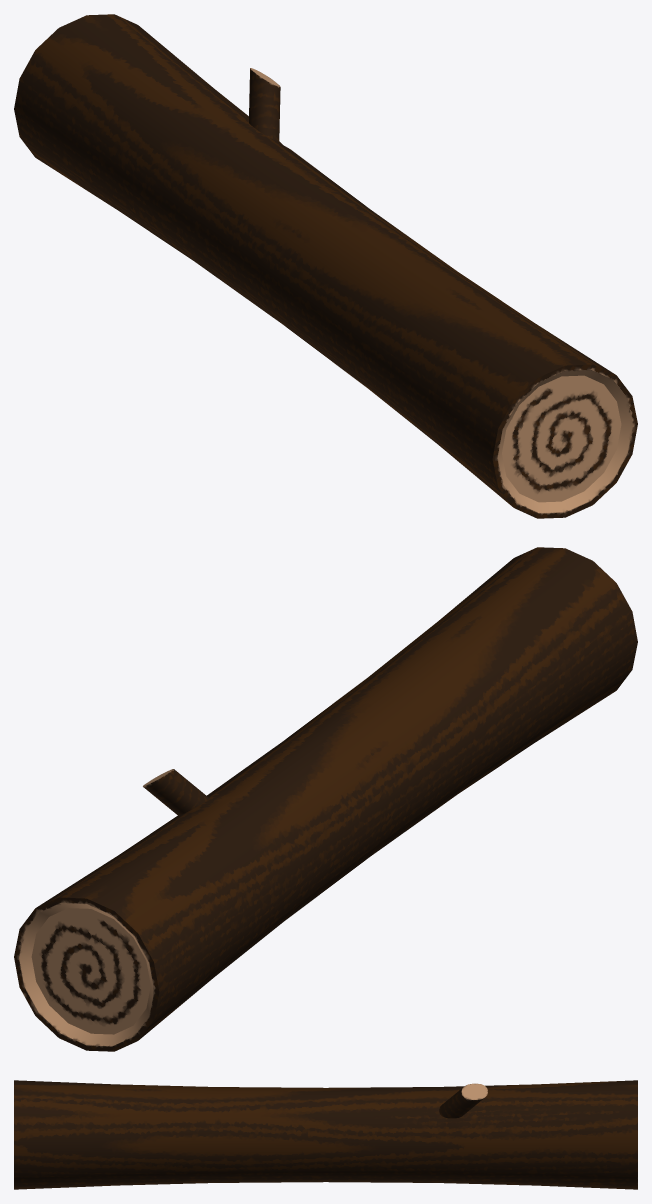
The model's file is trunk.fbx.
The picture shows the model from 3 angles, top to bottom: view 1: azimuth 30°, elevation 25°; view 2: azimuth 150°, elevation 25°; view 3: azimuth 270°, elevation 25°; orthographic projection. The views are drawn at different scales.
Parts seen in each view (by area): view 1: Tronc; view 2: Tronc; view 3: Tronc.
Boxes of the visible parts, left/top/right/bottom form: Tronc: left=14, top=14, right=637, bottom=518; Tronc: left=14, top=547, right=637, bottom=1051; Tronc: left=14, top=1080, right=637, bottom=1189.
Bounding box in the file's own units: 200 × 231 × 1140.
Materials: 1 (1 with a texture image).
